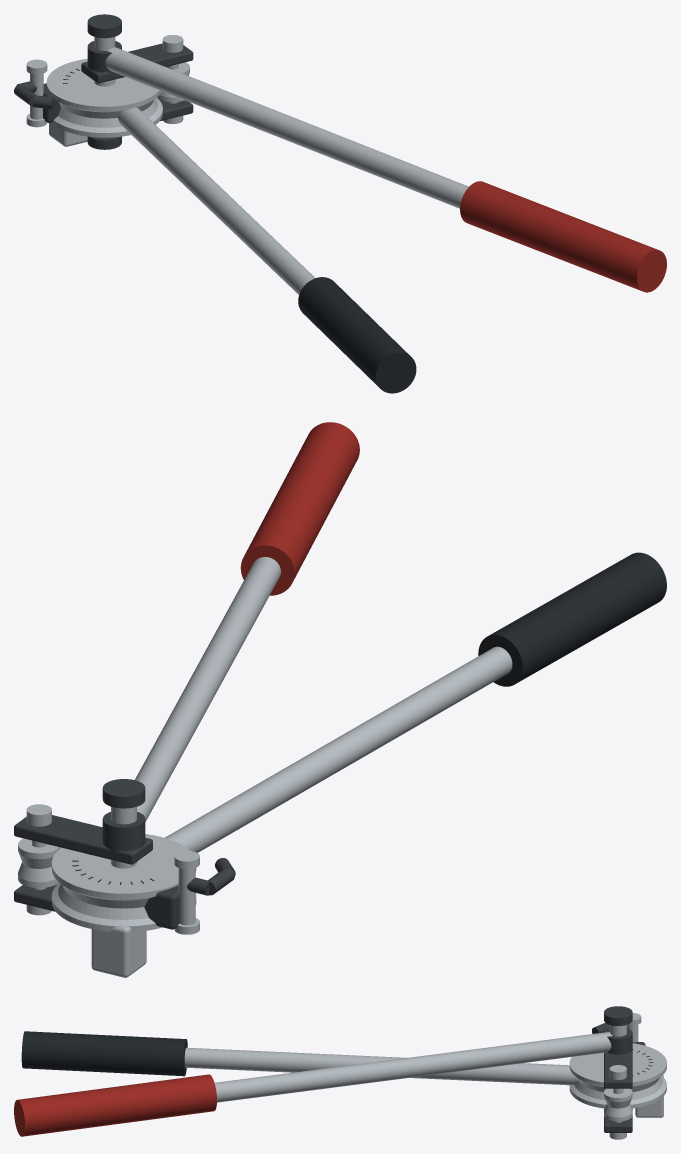
Rendered from full.fbx.
3 renders of one model, top to bottom at view 1: azimuth 30°, elevation 25°; view 2: azimuth 150°, elevation 25°; view 3: azimuth 270°, elevation 25°, orthographic. The views are drawn at different scales.
Parts seen in each view (by area): view 1: Upper lever grip, Upper carriage lever, Fixed handle grip, Fixed lower handle, Fixed grooved former, Carrier fork cheek 0.043, Pivot axial retaining head 0.071, Upper lever attachment collar; view 2: Fixed lower handle, Fixed handle grip, Upper lever grip, Fixed grooved former, Upper carriage lever, Carrier fork cheek 0.043, Generic rear vise mounting boss, Grooved follower roller, Upper lever attachment collar, Fixed latch mounting lug, Pivot axial retaining head 0.071, Latch pivot; view 3: Upper carriage lever, Upper lever grip, Fixed handle grip, Fixed lower handle, Fixed grooved former, Grooved follower roller, Carrier fork cheek 0.043, Pivot axial retaining head 0.071, Upper lever attachment collar, Generic rear vise mounting boss, Carrier fork cheek 0.009, Roller axle retainer 0.049.
Boxes of the visible parts, x1,y1,x2,y2 form: Upper lever grip: [460, 181, 666, 292]; Upper carriage lever: [105, 47, 468, 208]; Fixed handle grip: [298, 277, 416, 393]; Fixed lower handle: [118, 107, 315, 294]; Fixed grooved former: [46, 58, 162, 137]; Carrier fork cheek 0.043: [81, 43, 193, 83]; Pivot axial retaining head 0.071: [87, 14, 121, 38]; Upper lever attachment collar: [87, 41, 121, 73]; Fixed lower handle: [164, 646, 512, 852]; Fixed handle grip: [478, 552, 666, 686]; Upper lever grip: [240, 422, 359, 595]; Fixed grooved former: [51, 834, 196, 931]; Upper carriage lever: [135, 557, 280, 821]; Carrier fork cheek 0.043: [14, 815, 152, 864]; Generic rear vise mounting boss: [91, 926, 146, 977]; Grooved follower roller: [18, 838, 60, 887]; Upper lever attachment collar: [102, 812, 145, 851]; Fixed latch mounting lug: [144, 885, 179, 929]; Pivot axial retaining head 0.071: [102, 779, 145, 808]; Latch pivot: [178, 868, 195, 925]; Upper carriage lever: [214, 1032, 612, 1102]; Upper lever grip: [14, 1074, 216, 1136]; Fixed handle grip: [21, 1031, 187, 1076]; Fixed lower handle: [184, 1047, 577, 1085]; Fixed grooved former: [569, 1043, 666, 1108]; Grooved follower roller: [604, 1088, 632, 1121]; Carrier fork cheek 0.043: [604, 1050, 632, 1088]; Pivot axial retaining head 0.071: [604, 1006, 632, 1025]; Upper lever attachment collar: [604, 1028, 632, 1054]; Generic rear vise mounting boss: [635, 1075, 663, 1117]; Carrier fork cheek 0.009: [604, 1108, 632, 1132]; Roller axle retainer 0.049: [609, 1065, 626, 1079].
Size of the model in its own units: 19.63 by 8.2 by 45.59.
